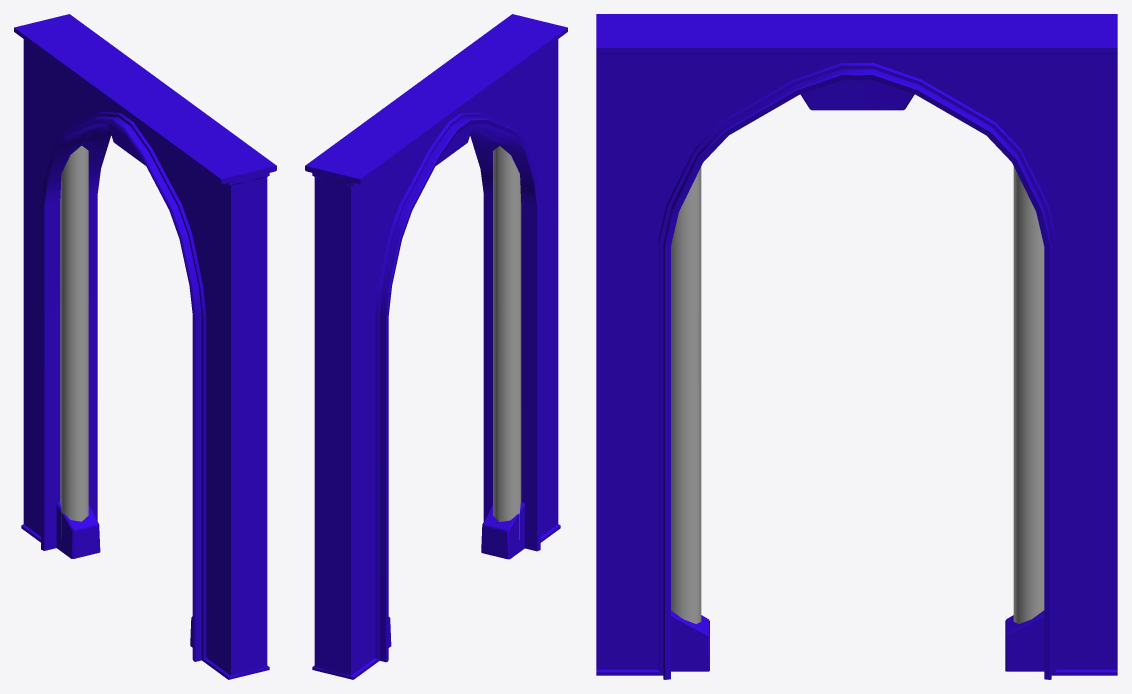
File: arch standalone.fbx
The picture shows the model from 3 angles, left to right: view 1: azimuth 30°, elevation 25°; view 2: azimuth 150°, elevation 25°; view 3: azimuth 270°, elevation 25°; orthographic projection. The views are drawn at different scales.
Parts seen in each view (by area): view 1: Base_model2, pipe_1; view 2: Base_model2, pipe_2; view 3: Base_model2, pipe_1, pipe_2.
Part boxes in pixels (x1,y1,x2,y2): Base_model2: [14, 14, 276, 679]; pipe_1: [60, 145, 88, 539]; Base_model2: [305, 14, 567, 679]; pipe_2: [493, 146, 521, 539]; Base_model2: [596, 14, 1117, 679]; pipe_1: [1013, 166, 1044, 623]; pipe_2: [671, 167, 701, 623].
Bounding box in the file's own units: 0.9287 × 8.02 × 6.
